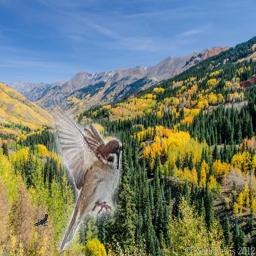Sparrow: (50, 94, 123, 250)
Swallow: (32, 214, 49, 227)
